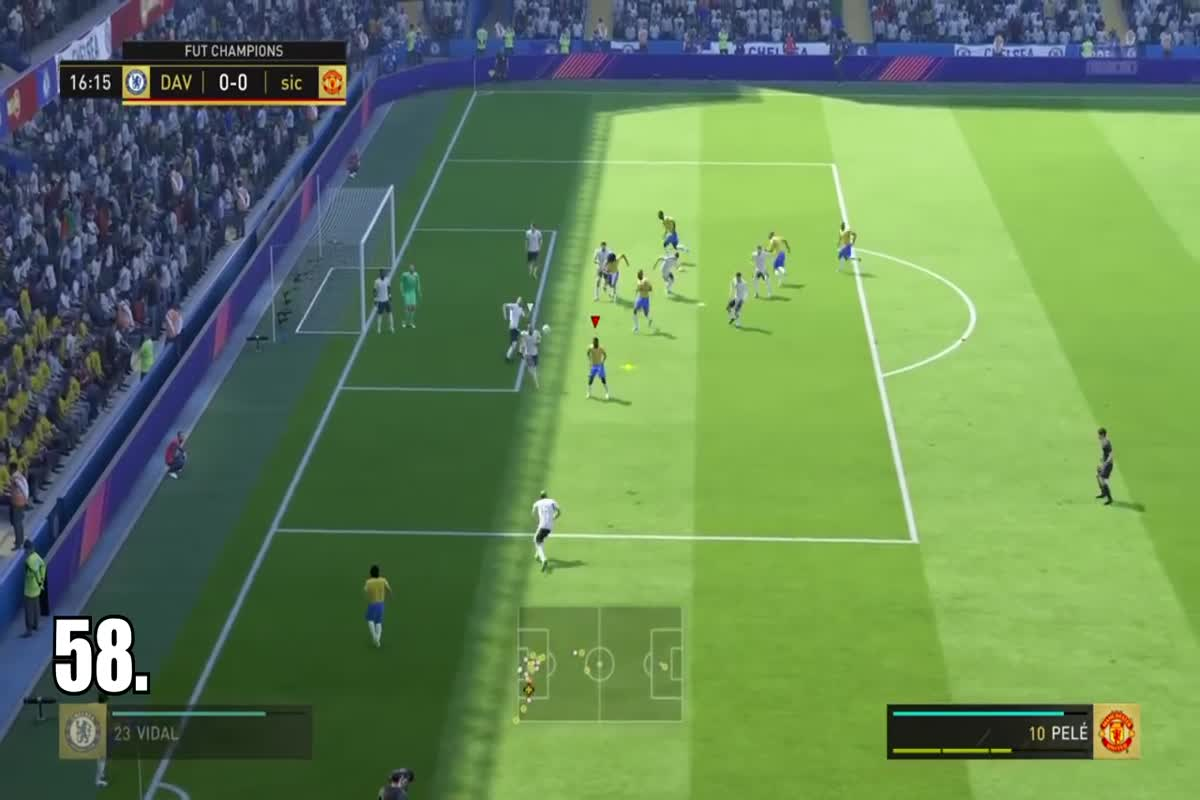ball: (536, 320, 560, 336)
